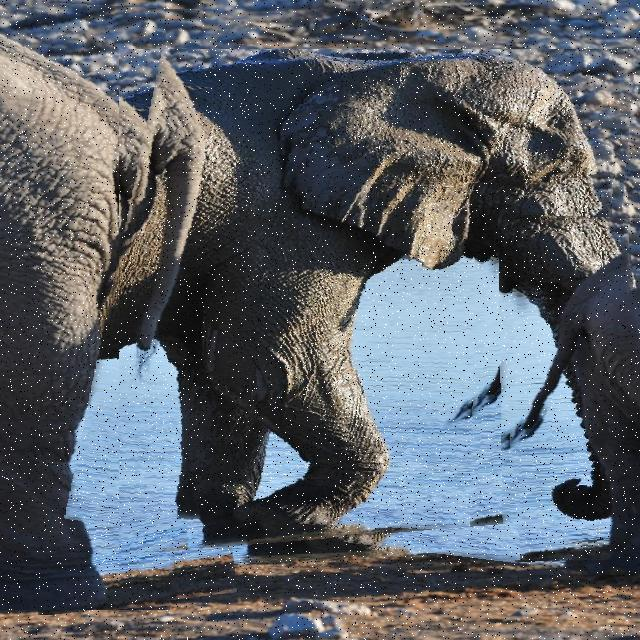elephant: (119, 49, 640, 559), (0, 0, 219, 610), (498, 214, 640, 560)
